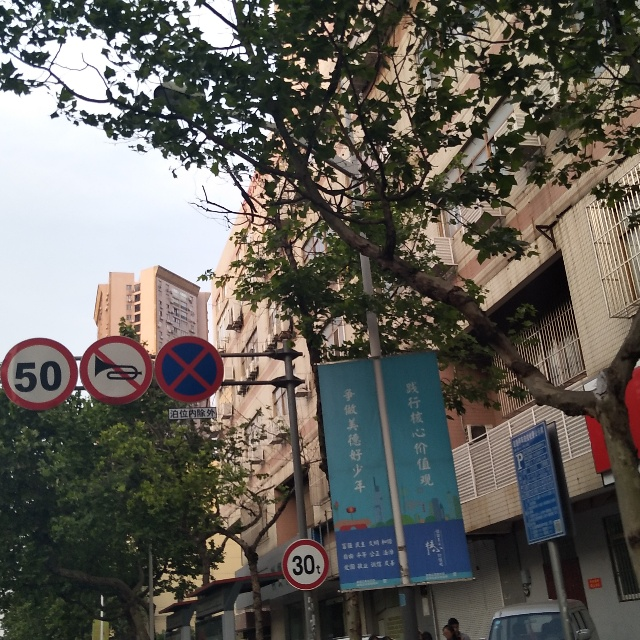nohonk: (81, 336, 153, 404)
stop: (155, 337, 224, 403)
